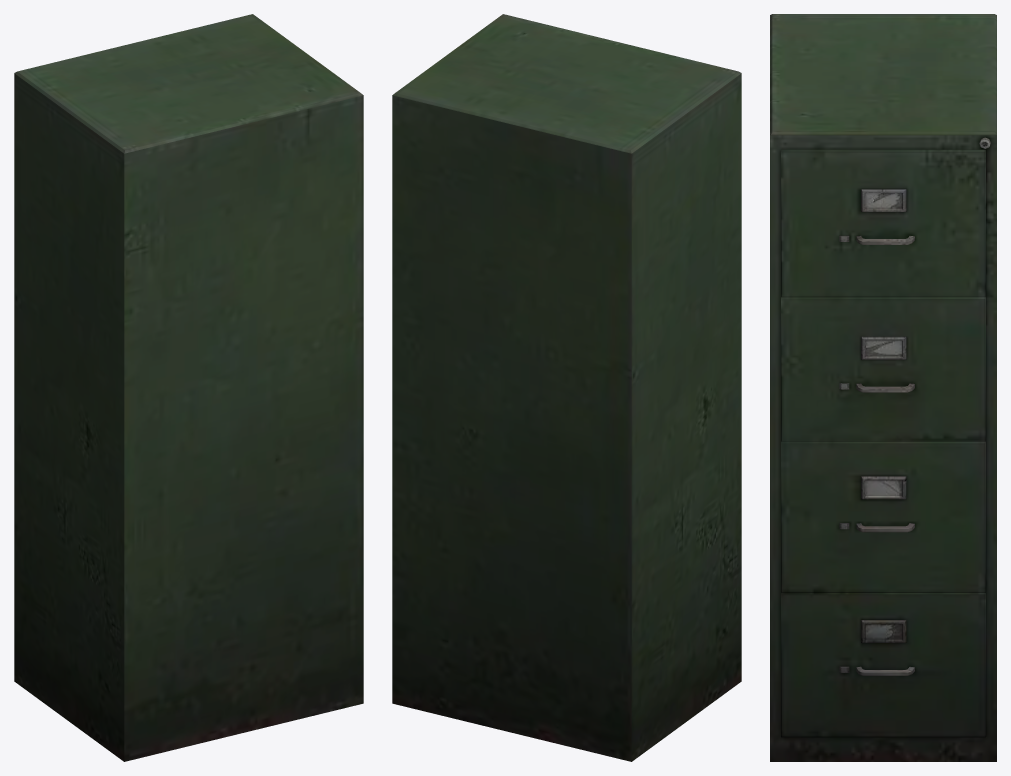
The model's file is controlroom_filecabinet002a.glb.
The picture shows the model from 3 angles, left to right: view 1: azimuth 30°, elevation 25°; view 2: azimuth 150°, elevation 25°; view 3: azimuth 270°, elevation 25°; orthographic projection. The views are drawn at different scales.
Visible parts, largest first — view 1: 0_controlroom_filecabinets001; view 2: 0_controlroom_filecabinets001; view 3: 0_controlroom_filecabinets001.
Part boxes in pixels (<box>): 0_controlroom_filecabinets001: <box>14,14,363,761</box>; 0_controlroom_filecabinets001: <box>392,14,741,761</box>; 0_controlroom_filecabinets001: <box>770,14,996,761</box>.
Bounding box in the file's own units: 0.7618 × 1.77 × 0.5791.
Materials: 1 (1 with a texture image).
